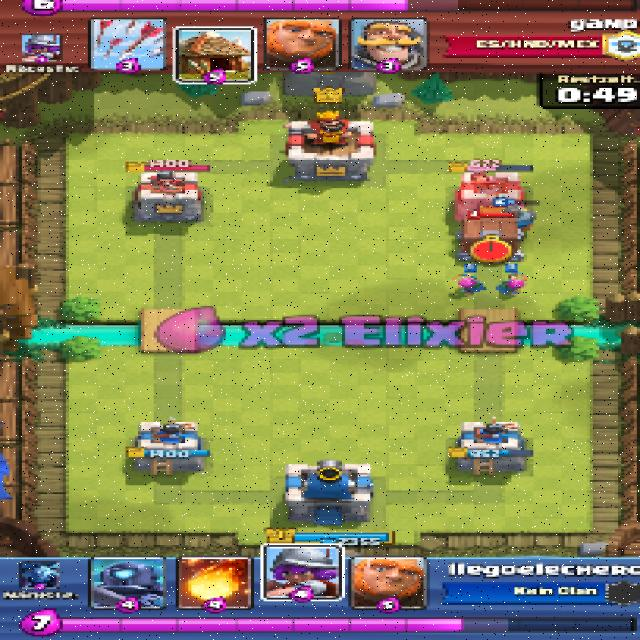Player-Archer: (495, 273, 532, 294), (454, 274, 488, 292)
Player-GoblinCage: (460, 218, 526, 259)
Player-Knight: (499, 204, 537, 225)
